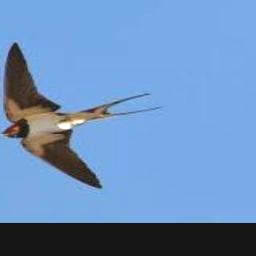Swallow: (0, 42, 160, 187)
